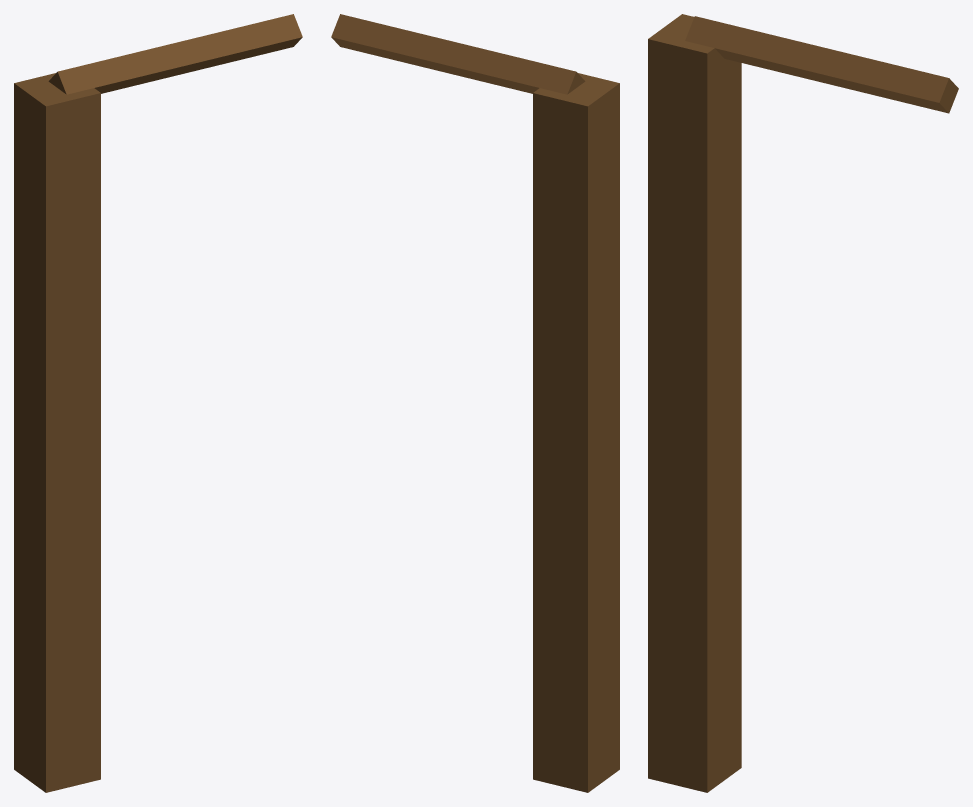
3 renders of one model, left to right at view 1: azimuth 30°, elevation 25°; view 2: azimuth 150°, elevation 25°; view 3: azimuth 330°, elevation 25°, orthographic. The views are drawn at different scales.
Visible parts, largest first — view 1: 灯具支架.001; view 2: 灯具支架.001; view 3: 灯具支架.001.
Part boxes in pixels (box(x1,y1,x2,y2)): 灯具支架.001: box(14, 14, 302, 792); 灯具支架.001: box(331, 14, 619, 792); 灯具支架.001: box(648, 14, 958, 792).
Bounding box in the file's own units: 0.201 × 0.512 × 0.042.
